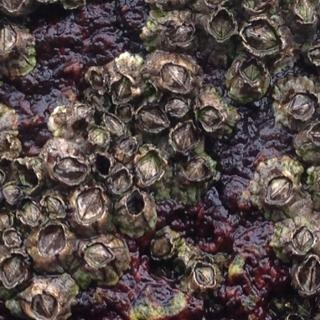Barnacle: (241, 16, 280, 52), (37, 224, 65, 259), (75, 187, 103, 222), (134, 150, 164, 181), (56, 156, 88, 184), (160, 62, 188, 90), (0, 254, 25, 285), (31, 291, 59, 318), (171, 122, 199, 149), (287, 91, 313, 119), (297, 258, 320, 289), (266, 176, 292, 202), (138, 105, 167, 128), (87, 241, 112, 267), (0, 20, 18, 54), (212, 10, 233, 38), (183, 157, 207, 181), (18, 199, 41, 224), (197, 106, 223, 128), (193, 262, 215, 287), (111, 76, 133, 101), (292, 224, 311, 252), (168, 23, 192, 45), (152, 234, 173, 258), (45, 194, 66, 217), (166, 97, 189, 116), (238, 62, 259, 82), (87, 124, 106, 146), (2, 182, 22, 202), (4, 229, 23, 250), (111, 169, 130, 190), (296, 0, 315, 21), (116, 138, 135, 157), (104, 115, 123, 134), (90, 91, 108, 109), (77, 104, 92, 124), (116, 104, 132, 121), (0, 135, 12, 156), (0, 212, 11, 232), (89, 72, 104, 86), (309, 47, 320, 64), (307, 309, 320, 320)
